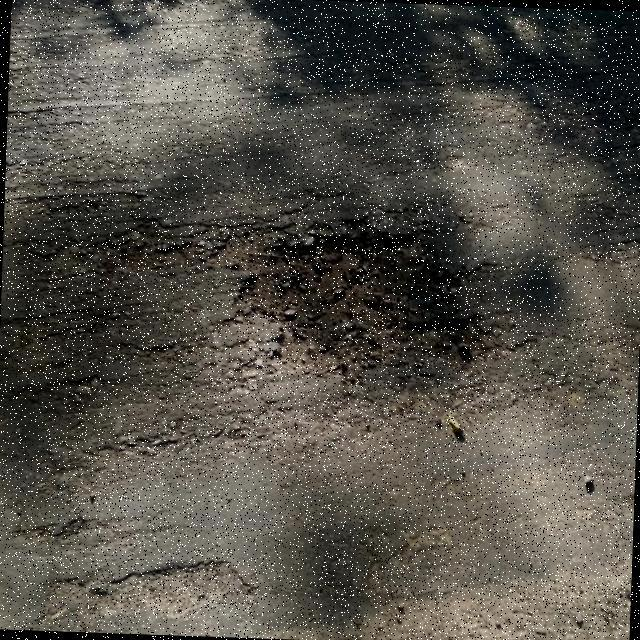Pothole: (226, 229, 484, 390)
